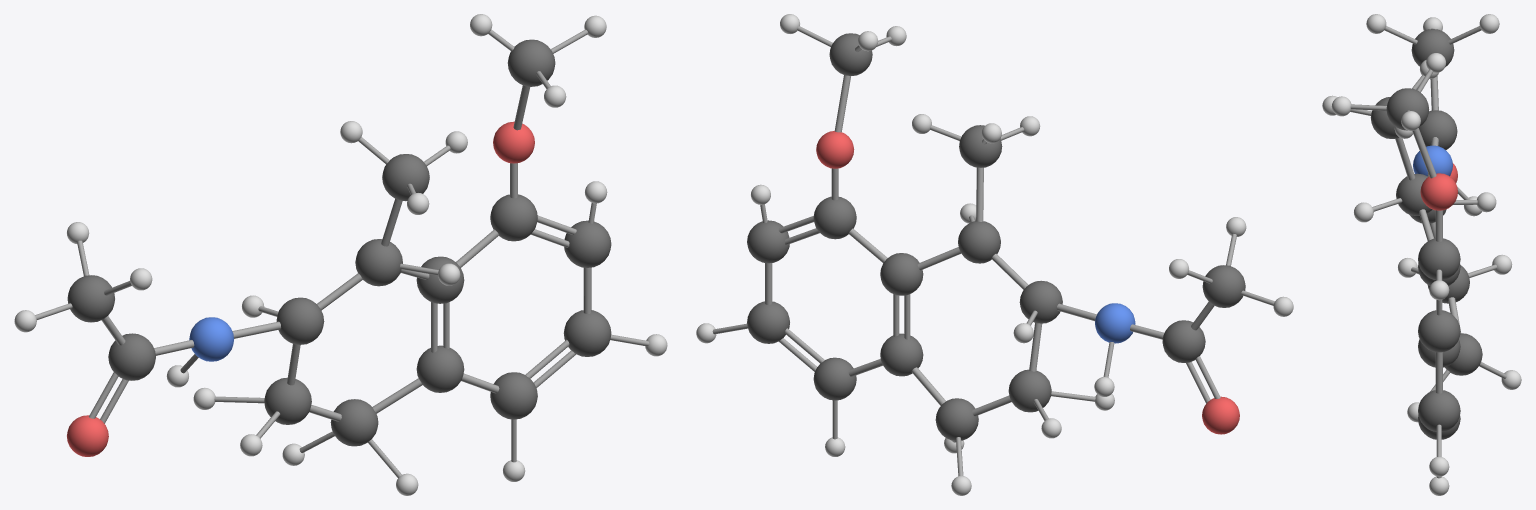
File: steel.glb
3 views of the same model, side by side, from view 1: azimuth 30°, elevation 25°; view 2: azimuth 150°, elevation 25°; view 3: azimuth 270°, elevation 25° (orthographic). The views are drawn at different scales.
Visible parts, largest first — view 1: C14H19NO2_b3110f, C14H19NO2_afb110, C14H19NO2_5a7f34, C14H19NO2_d985a1, C14H19NO2_e305b0; view 2: C14H19NO2_b3110f, C14H19NO2_afb110, C14H19NO2_5a7f34, C14H19NO2_d985a1, C14H19NO2_e305b0; view 3: C14H19NO2_b3110f, C14H19NO2_5a7f34, C14H19NO2_afb110, C14H19NO2_d985a1, C14H19NO2_e305b0.
Boxes of the visible parts, x1,y1,x2,y2 form: C14H19NO2_b3110f: (67, 39, 611, 446); C14H19NO2_afb110: (35, 29, 649, 477); C14H19NO2_5a7f34: (14, 14, 667, 495); C14H19NO2_d985a1: (67, 121, 534, 456); C14H19NO2_e305b0: (189, 317, 233, 361); C14H19NO2_b3110f: (747, 33, 1245, 440); C14H19NO2_afb110: (712, 26, 1274, 475); C14H19NO2_5a7f34: (696, 14, 1293, 495); C14H19NO2_d985a1: (816, 131, 1239, 434); C14H19NO2_e305b0: (1095, 303, 1135, 343); C14H19NO2_b3110f: (1370, 29, 1482, 439); C14H19NO2_5a7f34: (1322, 14, 1521, 495); C14H19NO2_afb110: (1350, 26, 1506, 478); C14H19NO2_d985a1: (1420, 163, 1457, 210); C14H19NO2_e305b0: (1413, 145, 1452, 176).
Bounding box in the file's own units: 10.75 × 7.48 × 3.17.
